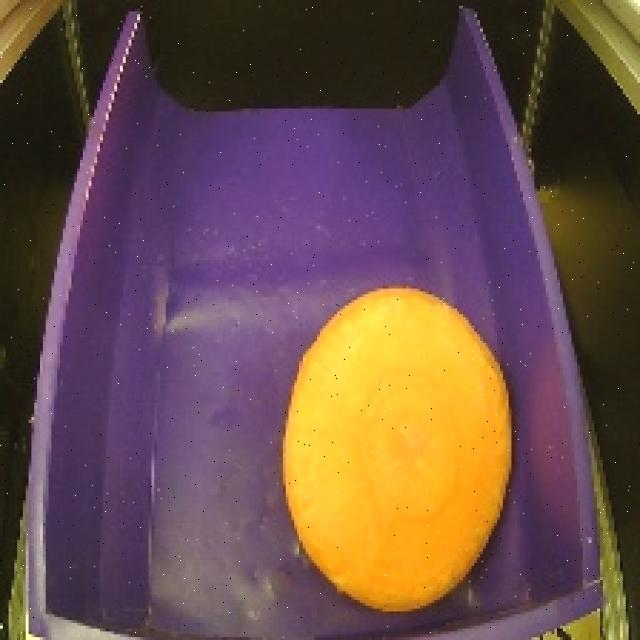carrots: (270, 271, 520, 623)
